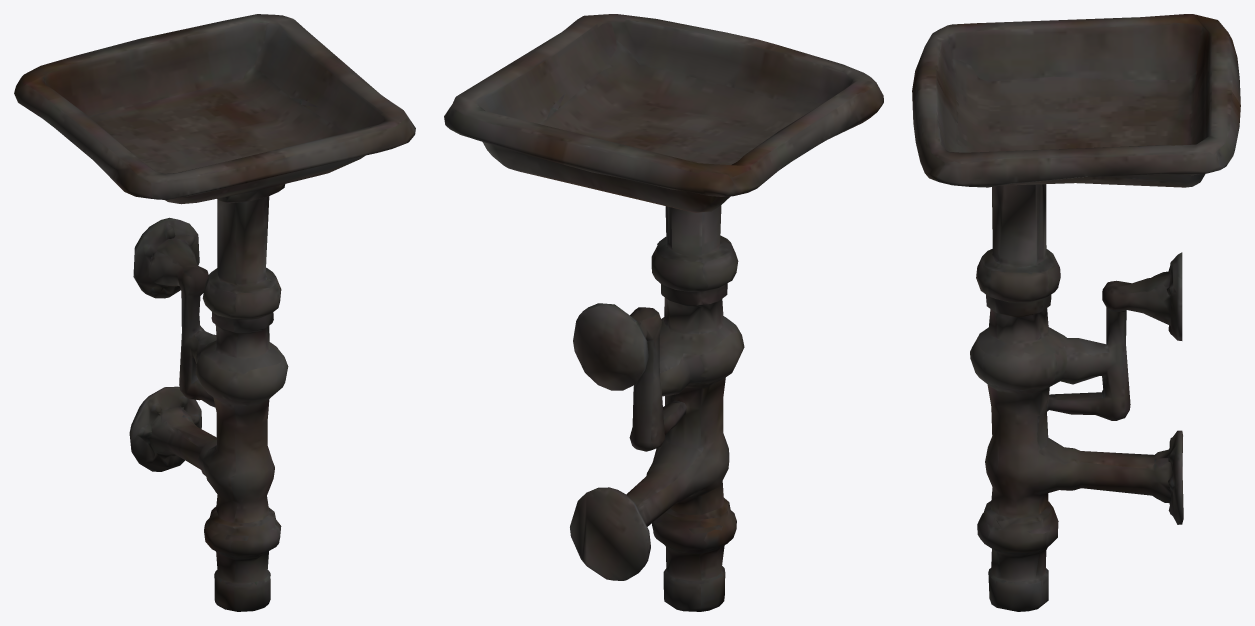
File: ancient-iron-drainpipe-v002.glb
The picture shows the model from 3 angles, left to right: view 1: azimuth 30°, elevation 25°; view 2: azimuth 150°, elevation 25°; view 3: azimuth 270°, elevation 25°; orthographic projection. The views are drawn at different scales.
Visible parts, largest first — view 1: ancient-iron-drainpipe; view 2: ancient-iron-drainpipe; view 3: ancient-iron-drainpipe.
Boxes of the visible parts, x1=… form: ancient-iron-drainpipe: x1=14, y1=14, x2=415, y2=611; ancient-iron-drainpipe: x1=444, y1=14, x2=883, y2=611; ancient-iron-drainpipe: x1=912, y1=14, x2=1240, y2=611.
Bounding box in the file's own units: 1.73 × 2.85 × 1.64.
1 material, 1 textured.
